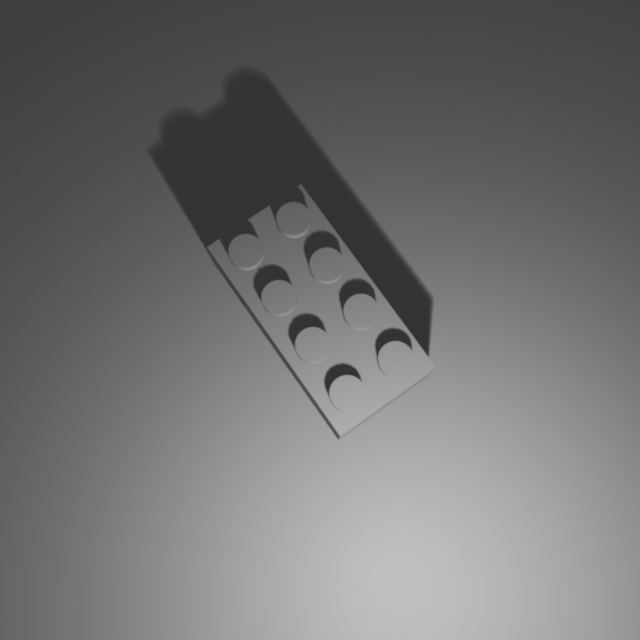lego_2x4: (205, 180, 438, 440)
